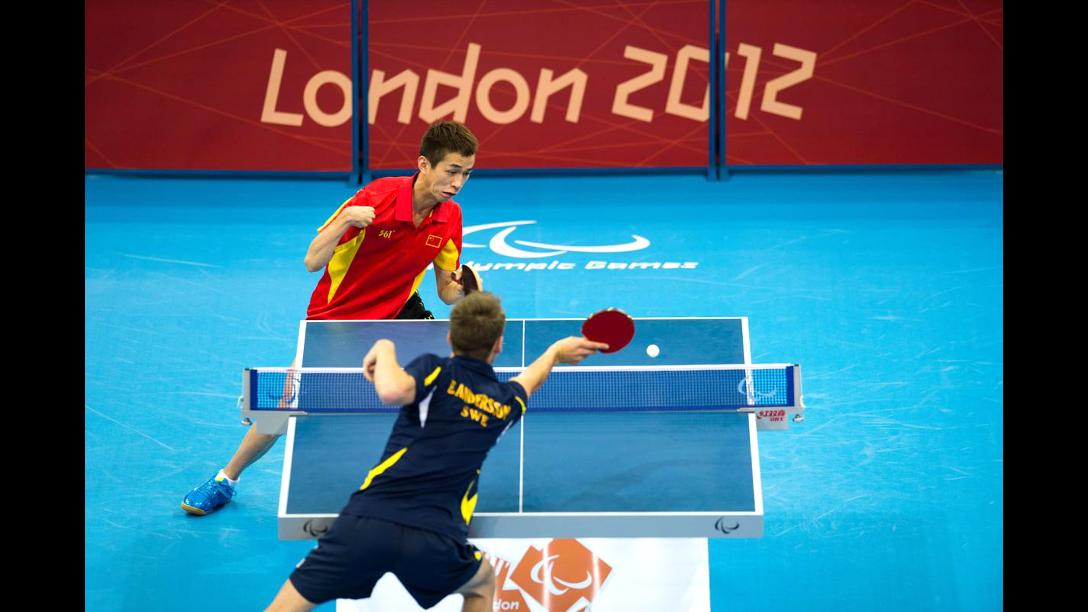Table-Tennis-Ball: (650, 345, 660, 357)
